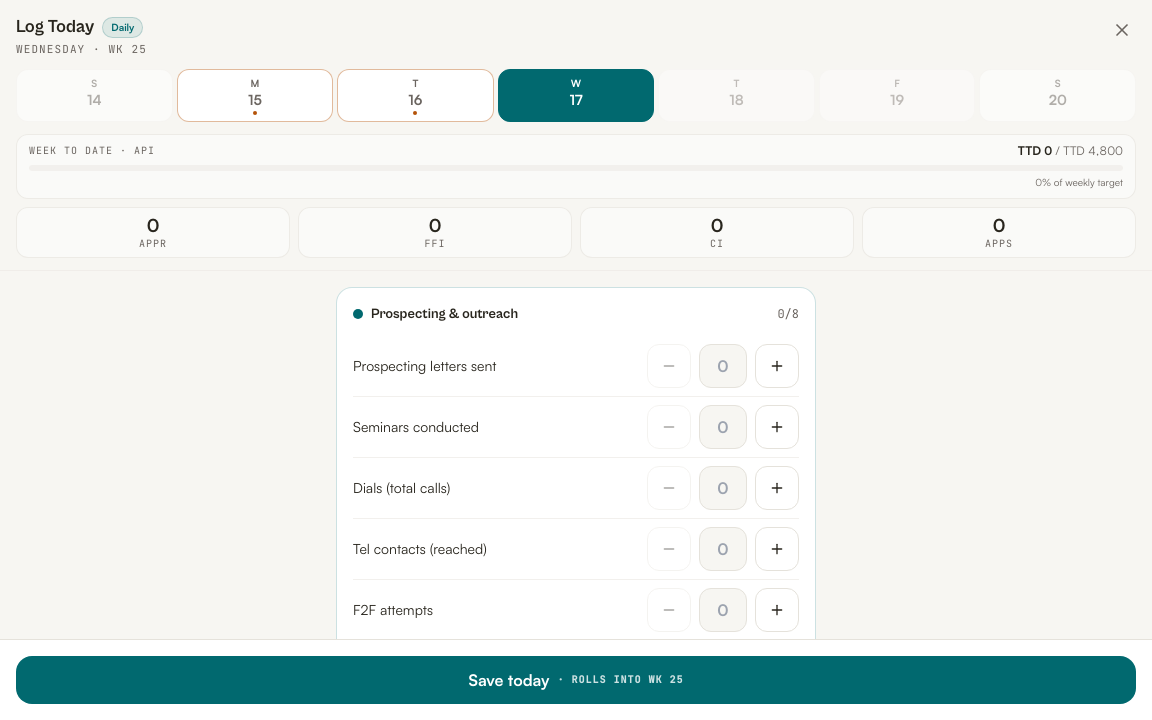
Test case: DailyCaptureV2 › refreshes the count strip after a successful Save
Expected: the element with test id "dcv2-chip-appr" shows "0", [147,214,159,236]
Click the button with test id "dcv2-save": (576, 680) [16,656,1136,704]
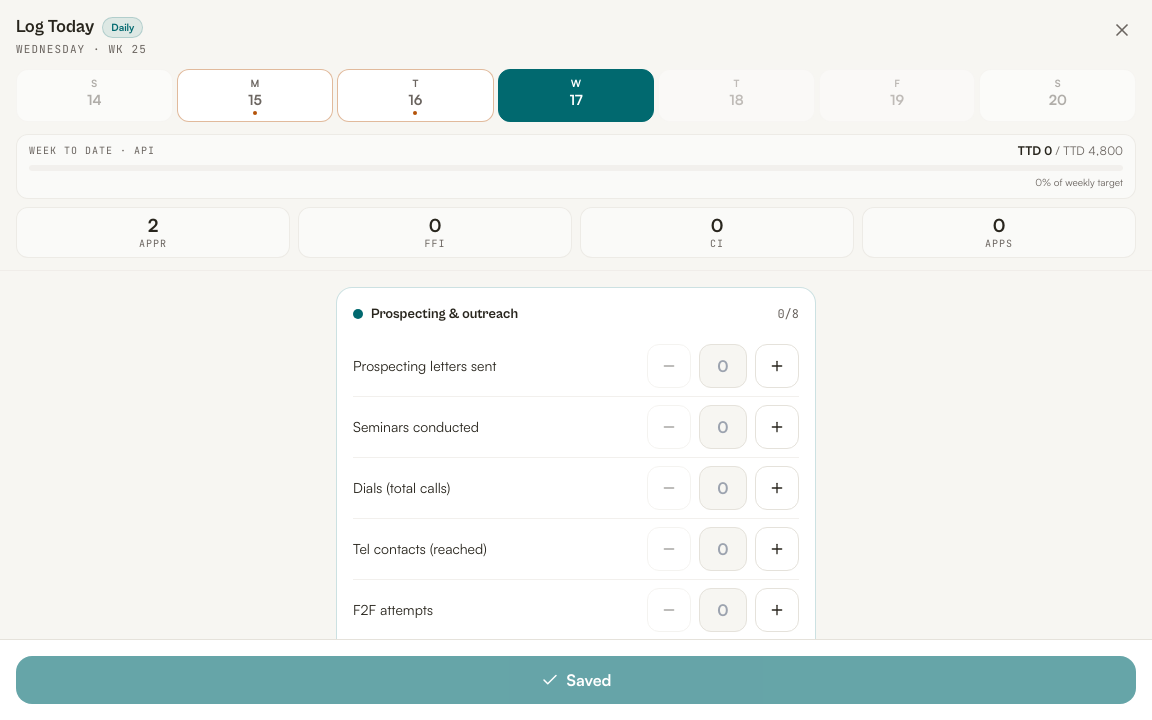
Result: the element with test id "dcv2-chip-appr" shows "2" at [148,214,158,236]
